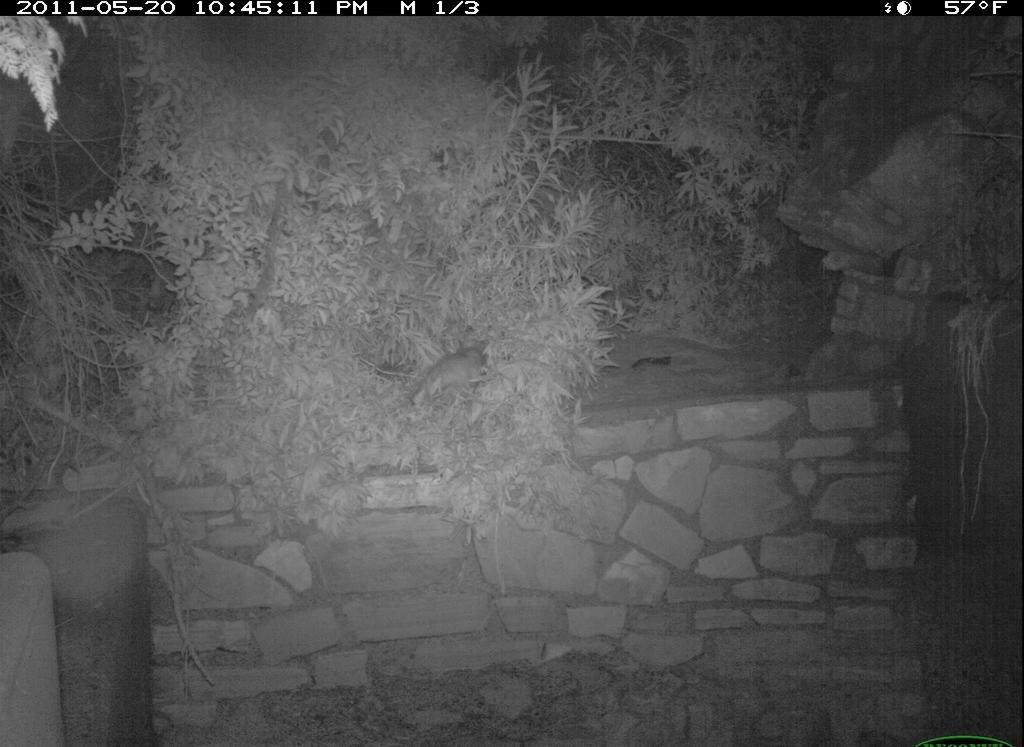opossum: (399, 331, 504, 418)
